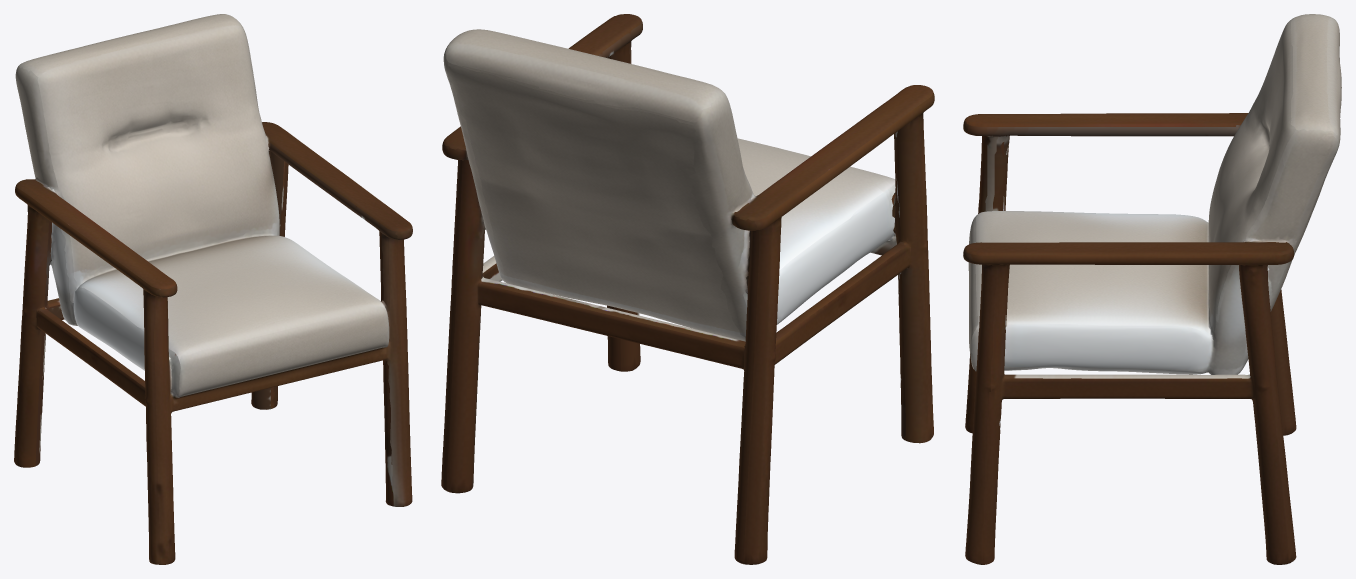
The model's file is chair__chair#1.glb.
The picture shows the model from 3 angles, left to right: view 1: azimuth 30°, elevation 25°; view 2: azimuth 150°, elevation 25°; view 3: azimuth 270°, elevation 25°; orthographic projection. The views are drawn at different scales.
Visible parts, largest first — view 1: tmpvl6p9rxh.ply; view 2: tmpvl6p9rxh.ply; view 3: tmpvl6p9rxh.ply.
Boxes of the visible parts, bbox=[...] form: tmpvl6p9rxh.ply: bbox=[14, 14, 412, 564]; tmpvl6p9rxh.ply: bbox=[441, 14, 934, 564]; tmpvl6p9rxh.ply: bbox=[963, 14, 1341, 564].
Size of the model in its own units: 1.42 by 1.99 by 1.59.
Materials: 1 (1 with a texture image).
